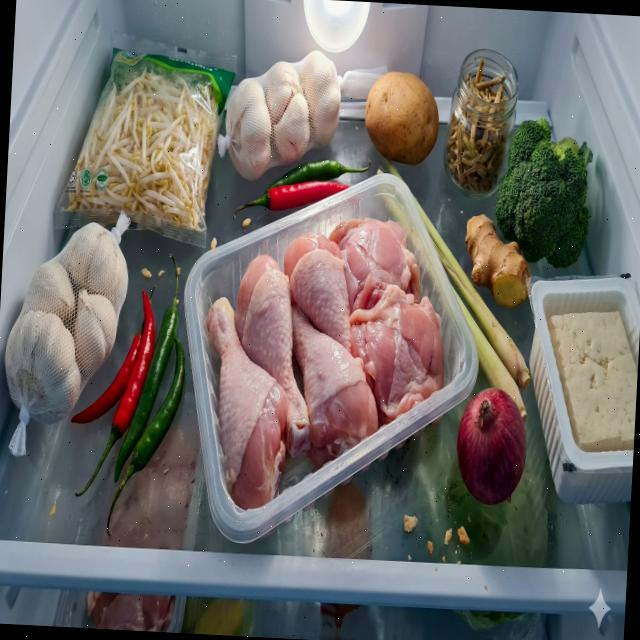bean_sprouts: (66, 61, 226, 238)
brocolli: (494, 115, 594, 269)
chicken: (195, 207, 453, 521)
chili: (65, 246, 193, 542), (232, 154, 372, 228)
garlic: (2, 216, 132, 430), (222, 46, 344, 186)
ginger: (462, 212, 536, 311)
lemongrass: (364, 162, 543, 425)
onion: (452, 383, 530, 509)
potato: (362, 68, 442, 167)
tofu: (543, 306, 640, 455)
